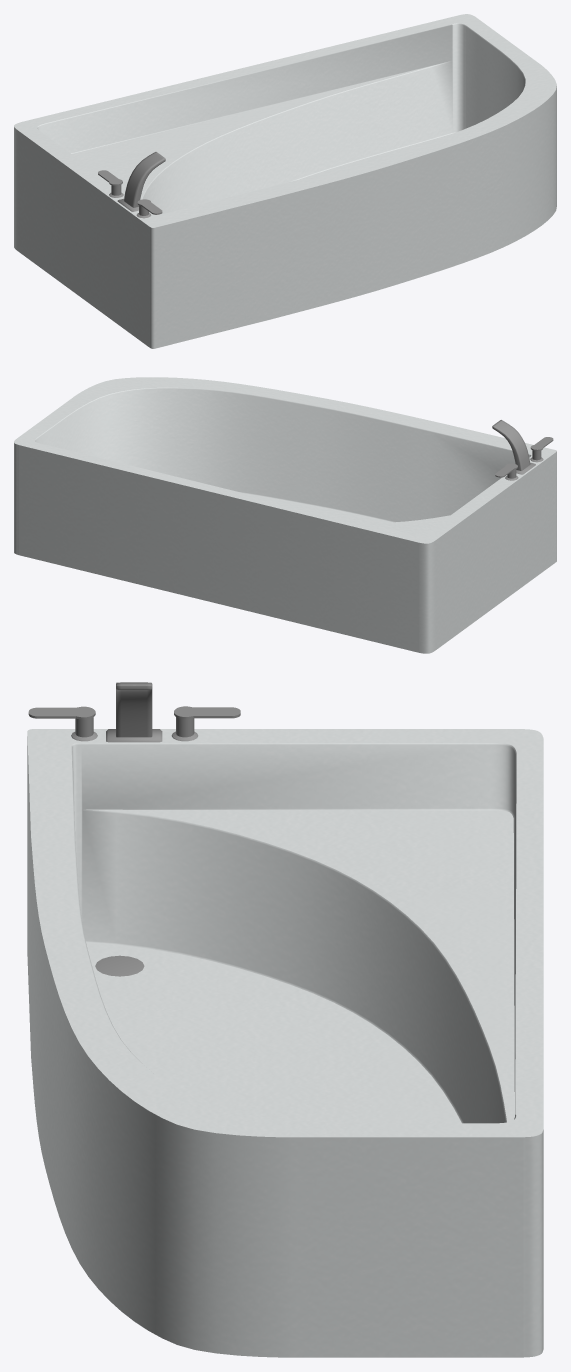
The model's file is Bath01.FBX.
3 renders of one model, top to bottom at view 1: azimuth 30°, elevation 25°; view 2: azimuth 150°, elevation 25°; view 3: azimuth 270°, elevation 25°, orthographic. The views are drawn at different scales.
Visible parts, largest first — view 1: Bath01; view 2: Bath01; view 3: Bath01.
Boxes of the visible parts, bbox=[...] form: Bath01: bbox=[14, 14, 556, 348]; Bath01: bbox=[14, 377, 556, 653]; Bath01: bbox=[27, 682, 543, 1357].
Bounding box in the file's own units: 86.1 × 29.31 × 46.
